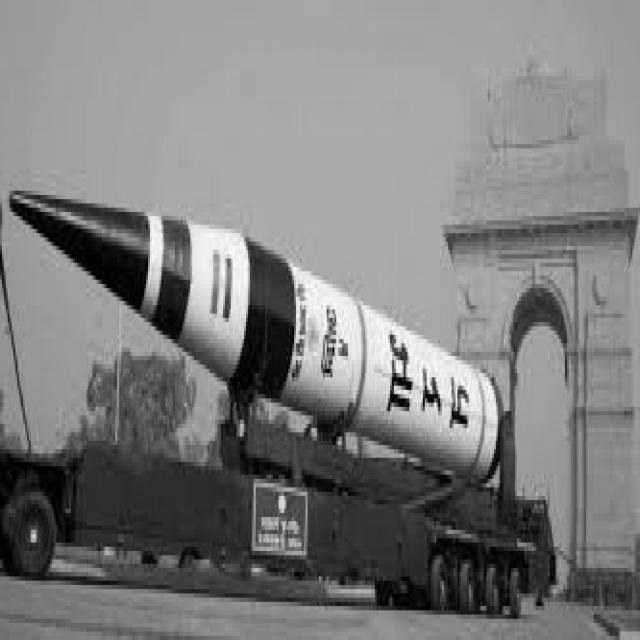missile: (0, 180, 518, 502)
